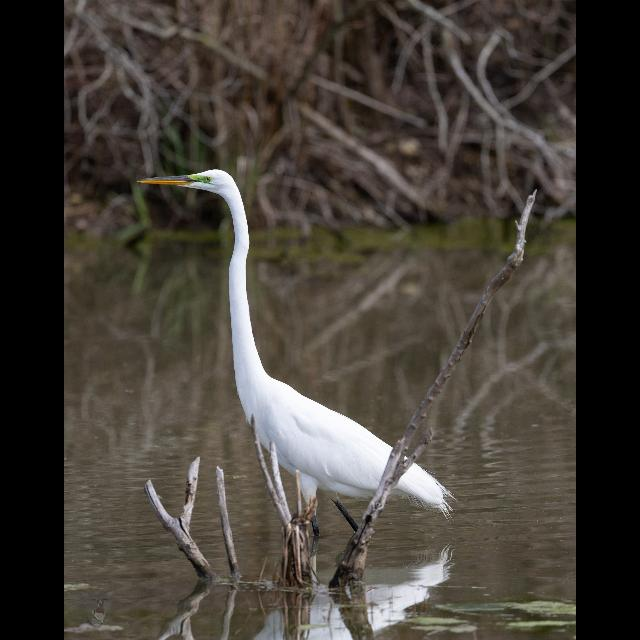egret: (130, 164, 450, 560)
